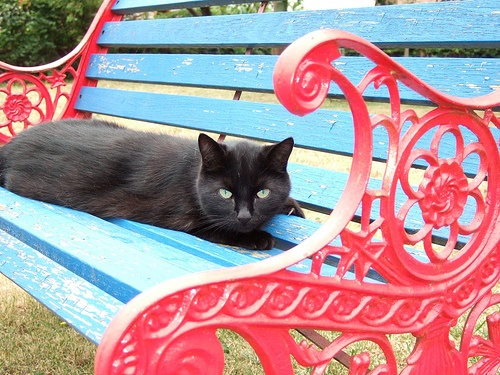bench: (0, 0, 500, 375)
cat: (0, 118, 308, 371)
